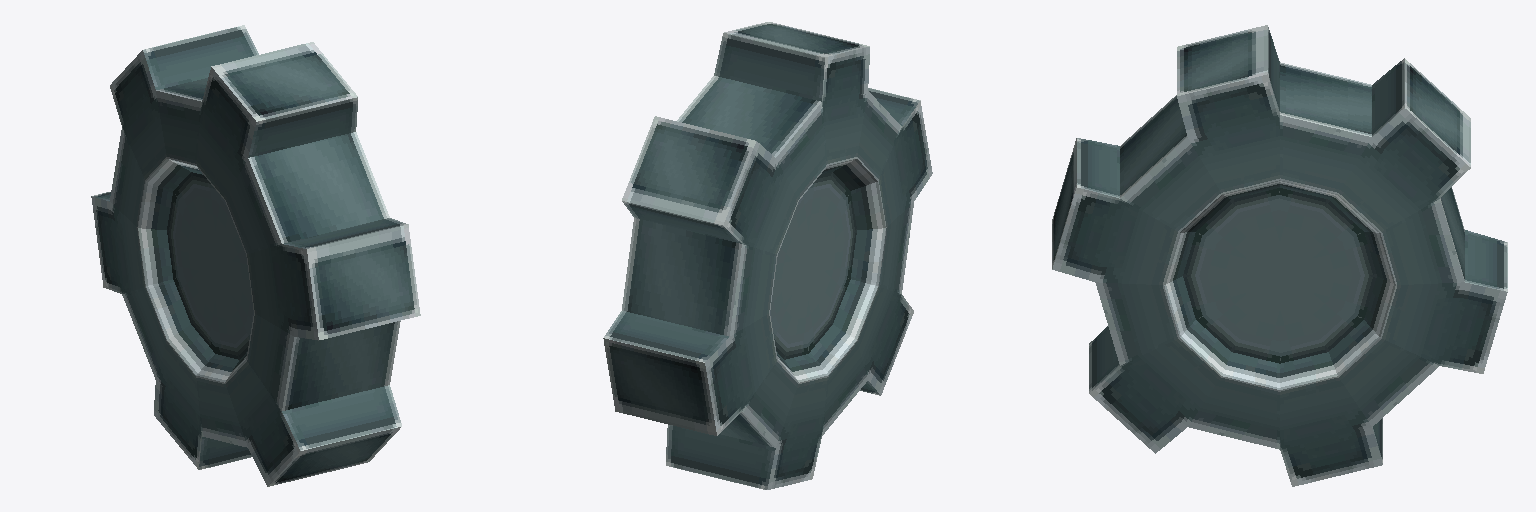
The picture shows the model from 3 angles: view 1: azimuth 30°, elevation 25°; view 2: azimuth 150°, elevation 25°; view 3: azimuth 270°, elevation 25°; orthographic projection.
Parts seen in each view (by area): view 1: Object01; view 2: Object01; view 3: Object01.
Boxes of the visible parts, box(x1,y1,x2,y2) form: Object01: box(91, 25, 420, 486); Object01: box(603, 22, 932, 489); Object01: box(1052, 25, 1507, 486).
Size of the model in its own units: 7.3 by 24 by 24.
1 materials, 1 textured.